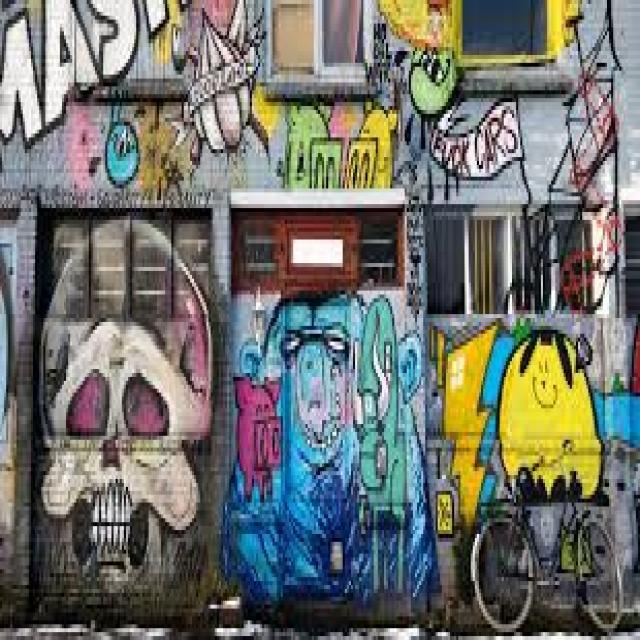-: (364, 0, 620, 318), (224, 285, 430, 619), (40, 214, 210, 604), (437, 325, 640, 624), (2, 0, 188, 189), (167, 1, 271, 170), (280, 99, 393, 190), (0, 252, 14, 423)
